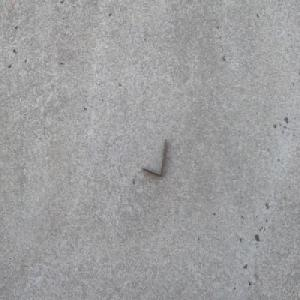MetalPart: (142, 137, 167, 178)
